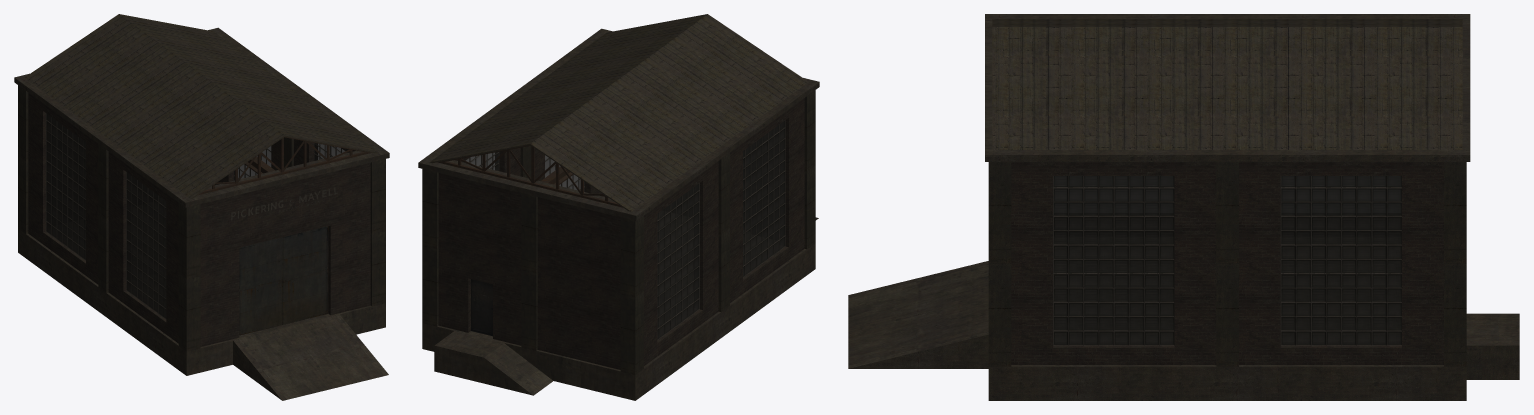
File: warehouse_mx_1.obj
3 renders of one model, left to right at view 1: azimuth 30°, elevation 25°; view 2: azimuth 150°, elevation 25°; view 3: azimuth 270°, elevation 25°, orthographic. The views are drawn at different scales.
Parts seen in each view (by area): view 1: warehouse_mx_1, garage_door_hr_4_piece_2, garage_door_hr_4_piece_1, building_sign_mx_1; view 2: warehouse_mx_1, door_hr_5; view 3: warehouse_mx_1.
Part boxes in pixels (box(x1,y1,x2,y2)): warehouse_mx_1: box(14, 14, 389, 400); garage_door_hr_4_piece_2: box(283, 226, 328, 324); garage_door_hr_4_piece_1: box(239, 237, 282, 335); building_sign_mx_1: box(231, 187, 337, 220); warehouse_mx_1: box(418, 14, 819, 400); door_hr_5: box(471, 279, 492, 336); warehouse_mx_1: box(848, 14, 1519, 400).
Size of the model in its own units: 8.8 by 8.87 by 17.7.
